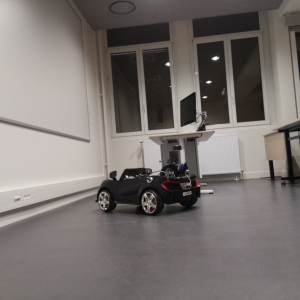big: (92, 164, 203, 216)
